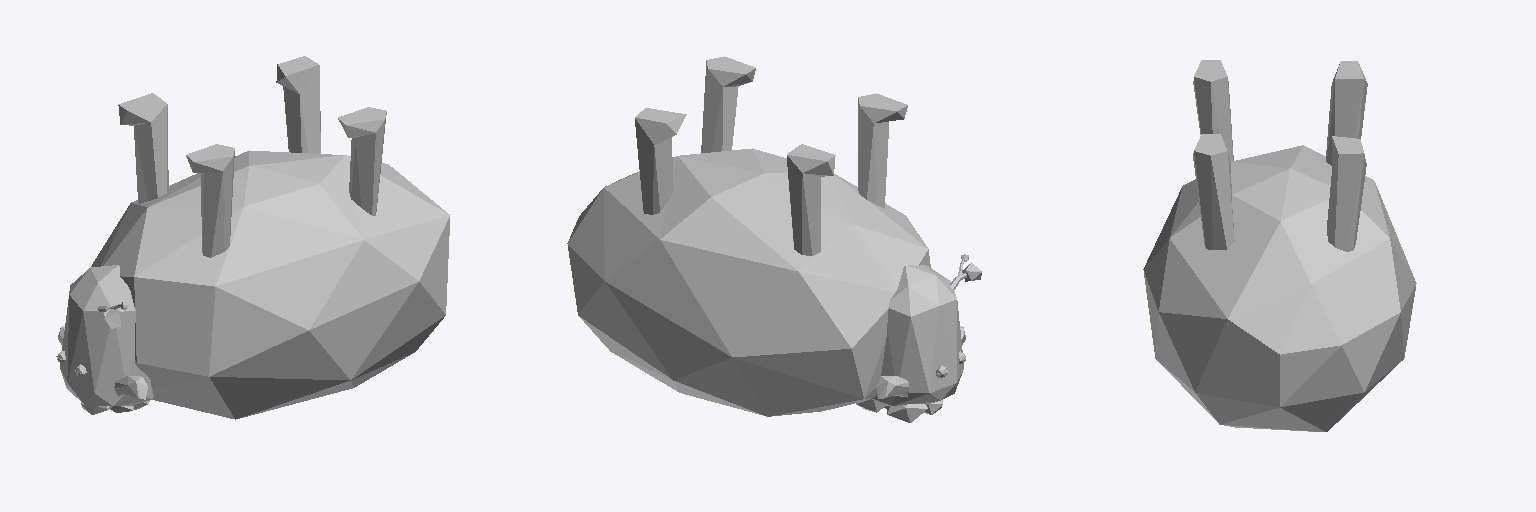
File: uprightSheep2.mtl.obj
The picture shows the model from 3 angles: view 1: azimuth 30°, elevation 25°; view 2: azimuth 150°, elevation 25°; view 3: azimuth 270°, elevation 25°; orthographic projection.
Visible parts, largest first — view 1: Icosphere.003; view 2: Icosphere.003; view 3: Icosphere.003.
Boxes of the visible parts, x1,y1,x2,y2 form: Icosphere.003: [56, 56, 449, 419]; Icosphere.003: [567, 56, 982, 422]; Icosphere.003: [1143, 60, 1416, 431].
Bounding box in the file's own units: 1.82 × 1.36 × 1.14.